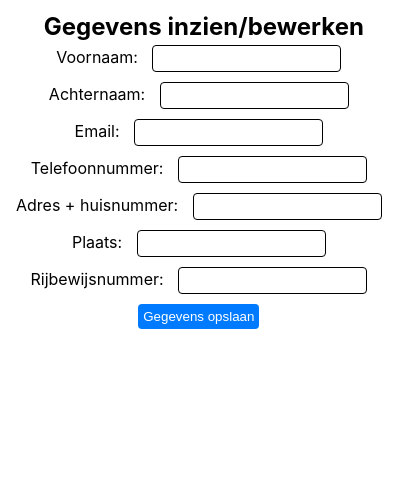
Test: toont foutmelding bij ongeldig telefoonnummer
Type "12345678" into the field labelled "Telefoonnummer:".
click(272, 170); type("12345678")  # box [178, 156, 367, 183]
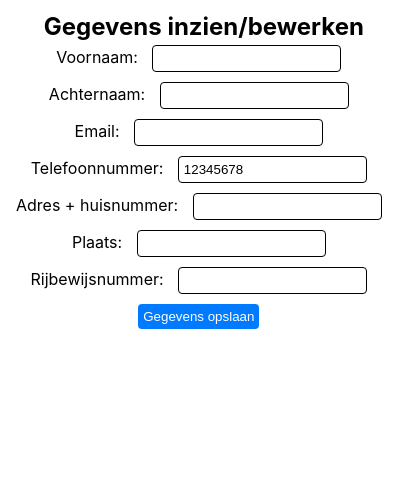
Click the button "Gegevens opslaan".
click(199, 316)  # box [138, 304, 259, 329]
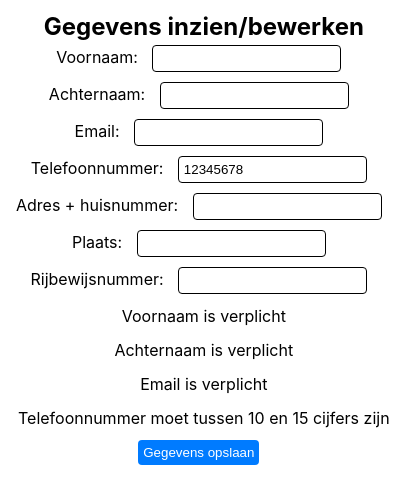
Check: the text "Telefoonnummer moet tussen 10 en 15 cijfers zijn" is shown, box [18, 406, 390, 430]
